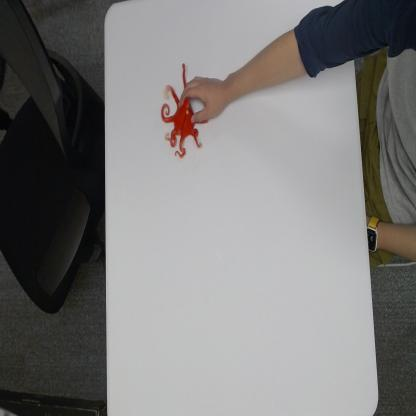Arm: (230, 0, 347, 104)
Hand: (160, 60, 204, 161), (177, 74, 231, 127)
